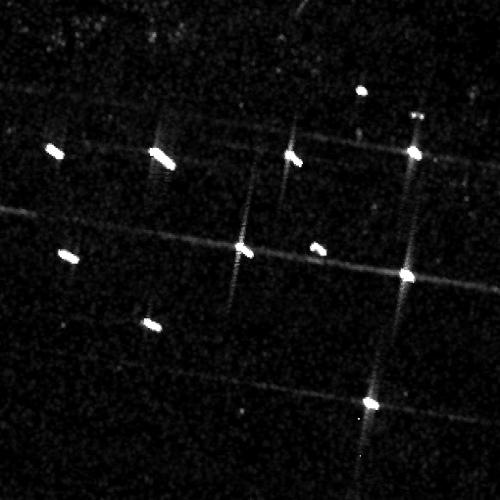ship: (147, 145, 177, 173), (44, 141, 65, 161), (57, 247, 80, 265), (283, 148, 303, 168), (234, 240, 255, 259), (141, 316, 163, 334), (309, 240, 327, 257), (362, 395, 380, 412), (399, 268, 416, 284), (407, 145, 423, 162), (355, 83, 369, 98)
